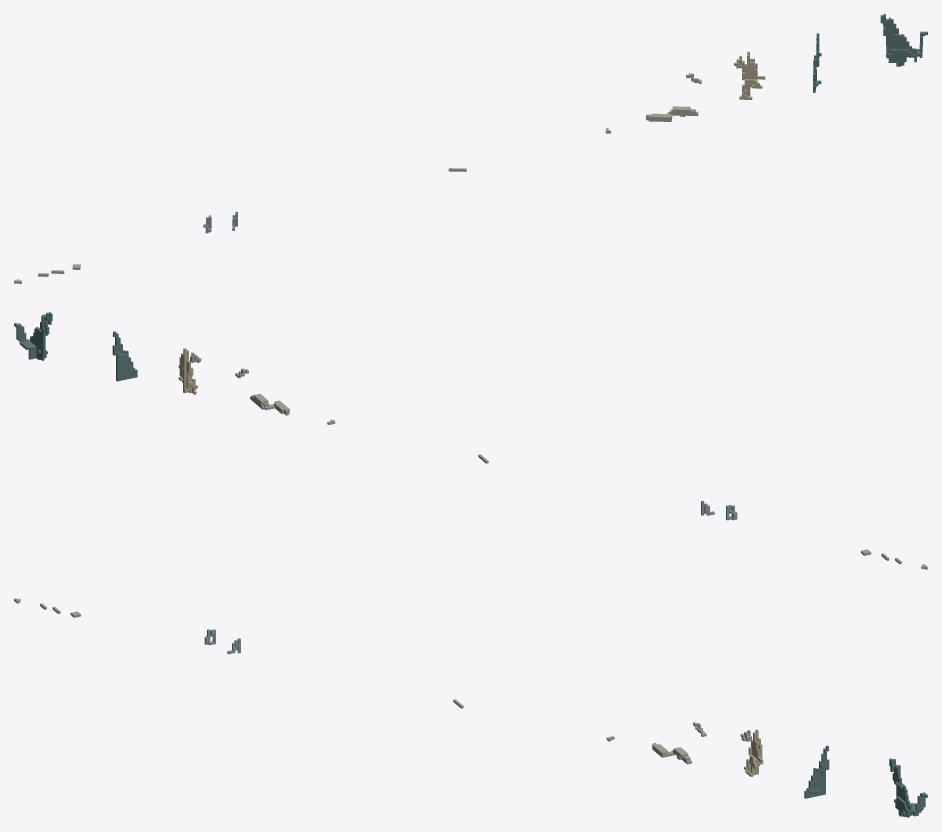
3 renders of one model, top to bottom at view 1: azimuth 30°, elevation 25°; view 2: azimuth 150°, elevation 25°; view 3: azimuth 330°, elevation 25°, orthographic.
Visible parts, largest first — view 1: measured-industrial; view 2: measured-industrial; view 3: measured-industrial.
Boxes of the visible parts, <box> form: measured-industrial: <box>14,14,927,283</box>; measured-industrial: <box>14,312,927,569</box>; measured-industrial: <box>14,598,927,817</box>.
Size of the model in its own units: 620 by 33.3 by 14.26.
